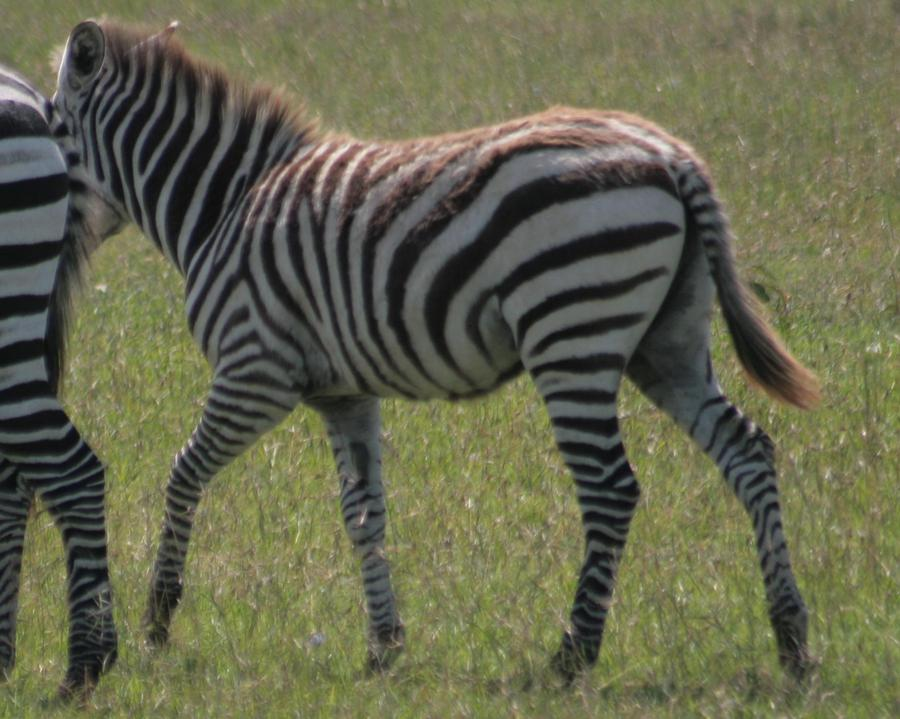zebra_plains: (162, 111, 681, 415)
